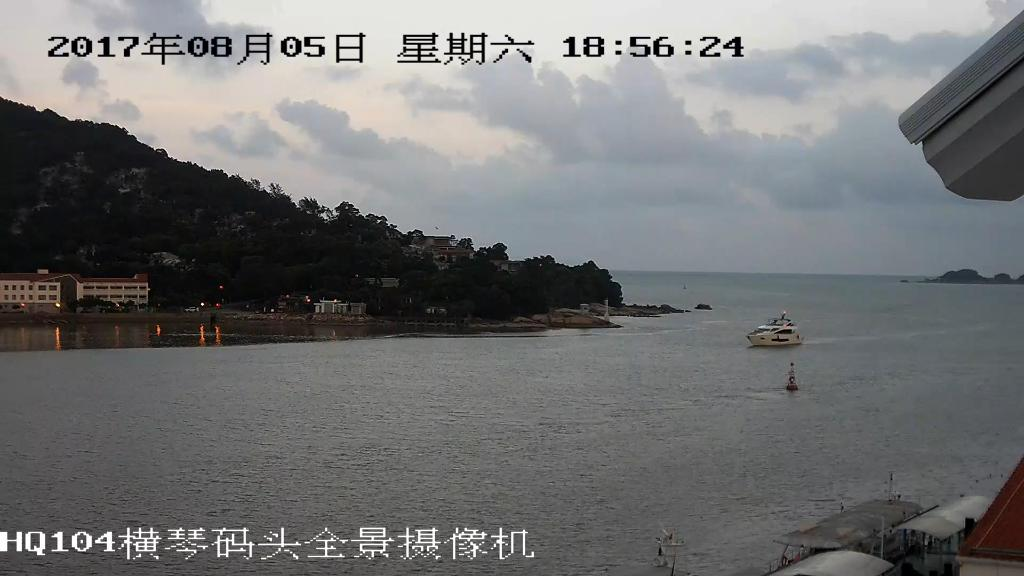PassengerShip: (744, 304, 808, 350)
